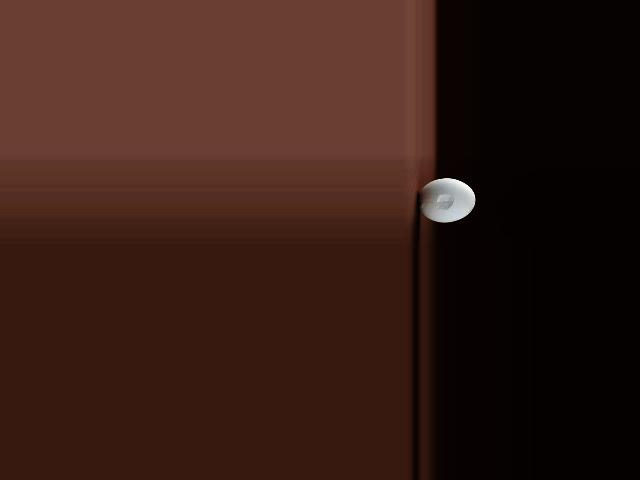egg: (418, 178, 475, 222)
